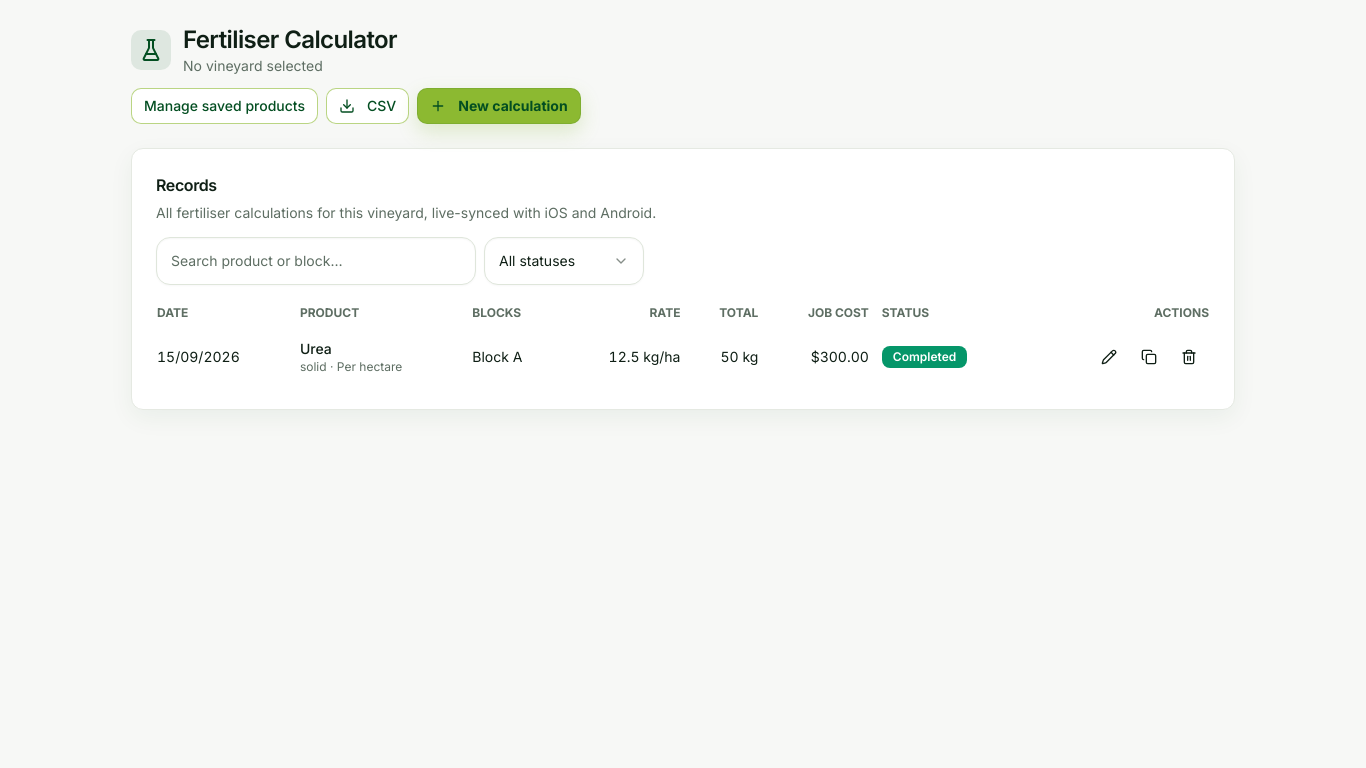
Test: records list with an unsupported-mode record › keeps Delete working for supported records
Click the button titled "Delete": (1189, 357) [1169, 337, 1209, 377]
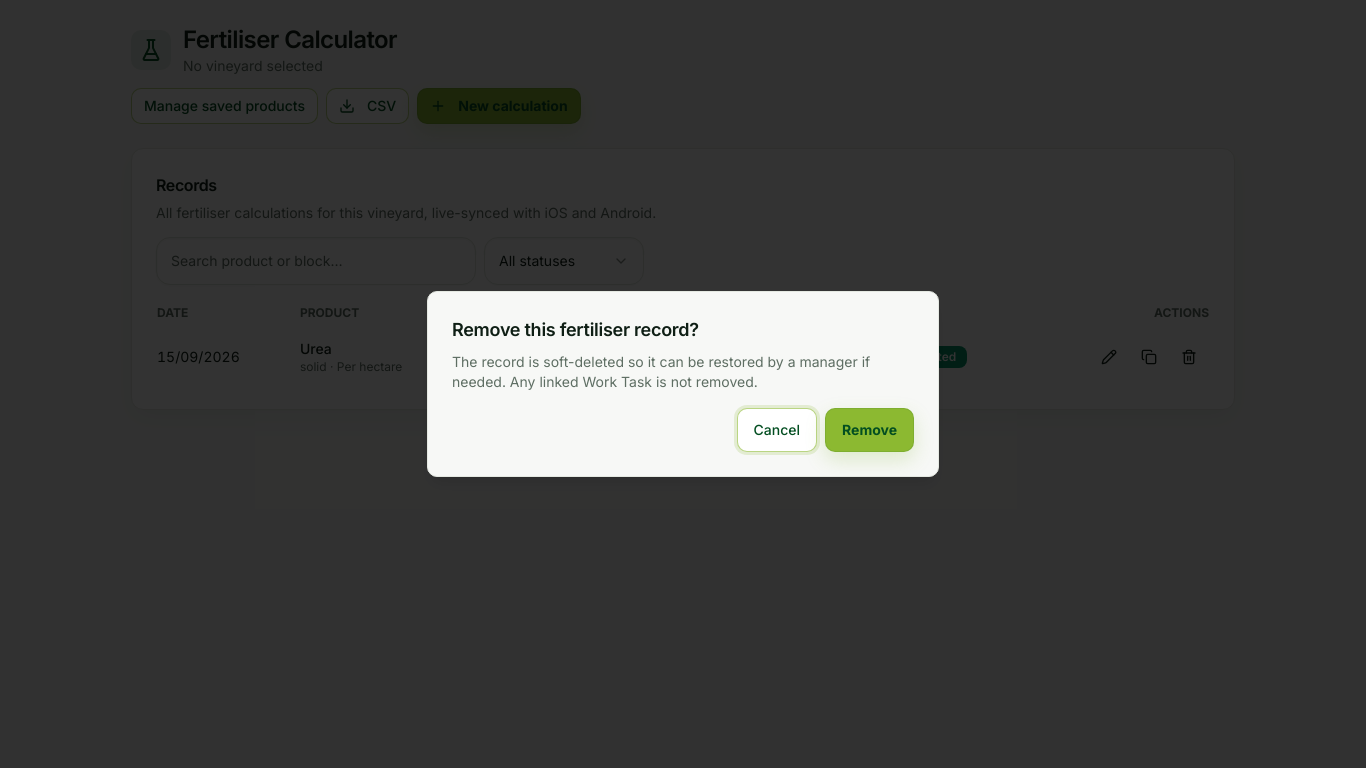
expect the dialog is shown: met, box [427, 291, 939, 477]
